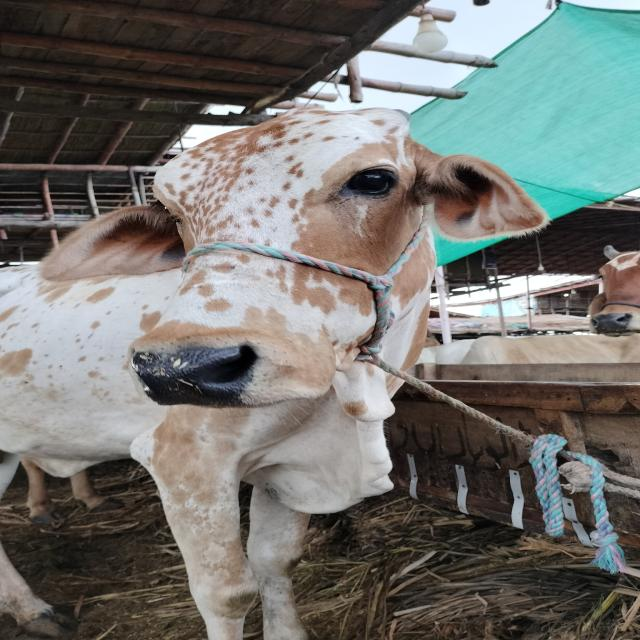muzzles: (123, 330, 287, 414)
